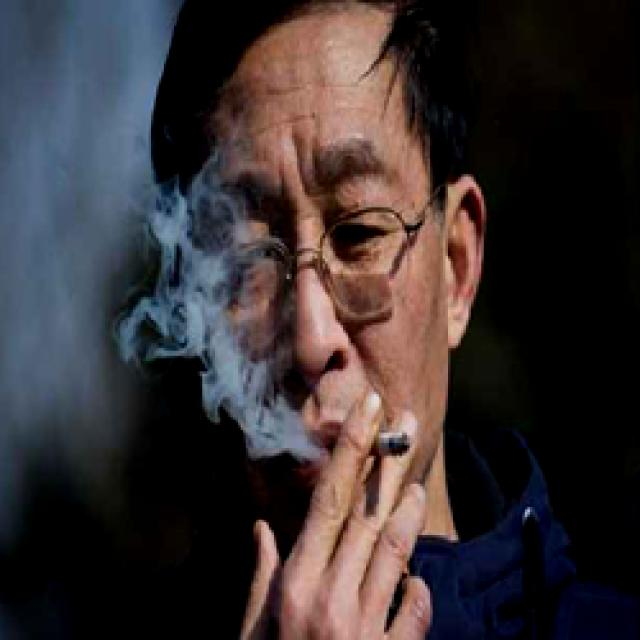Smooking: (367, 417, 414, 464)
